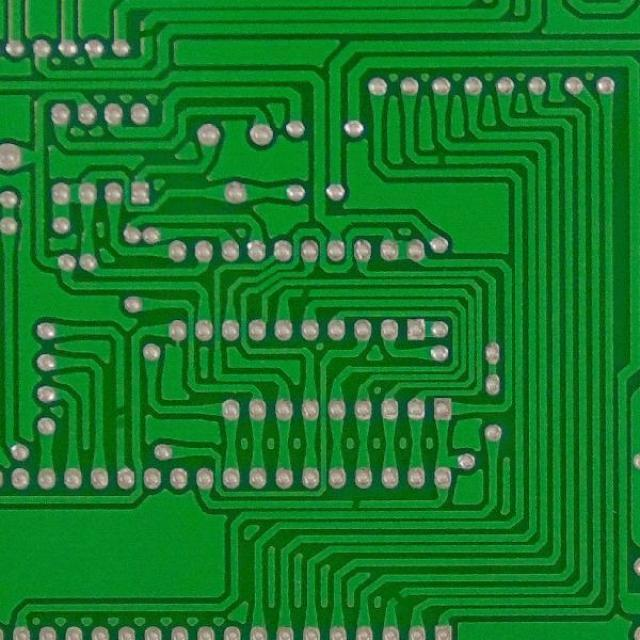Open_Circuit: (132, 20, 158, 46), (110, 398, 132, 426), (428, 148, 456, 170), (388, 586, 408, 610), (343, 494, 368, 511), (295, 284, 317, 302)
